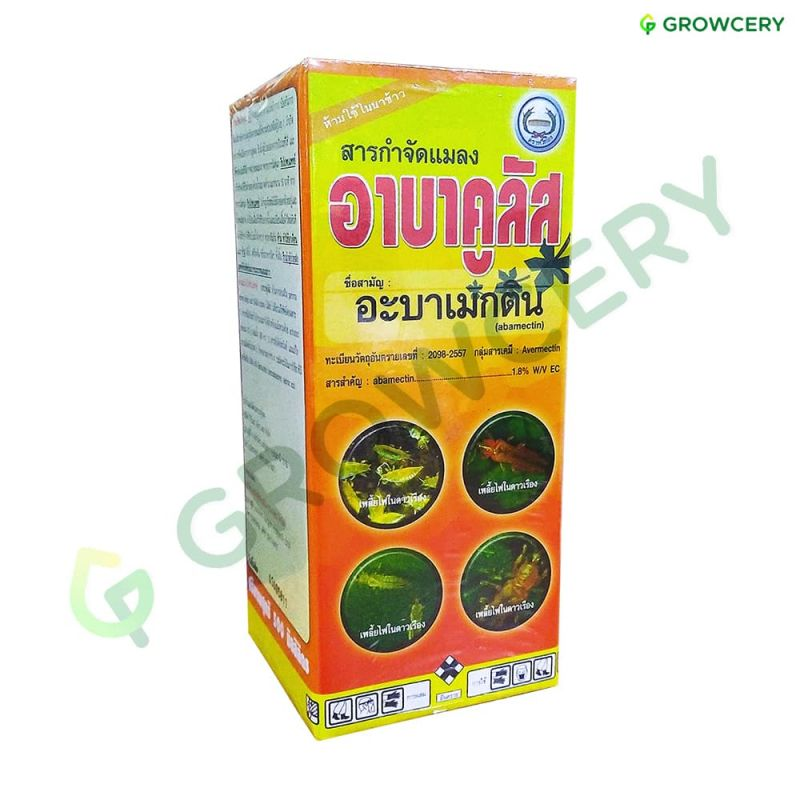Insecticide: (212, 51, 583, 752)
